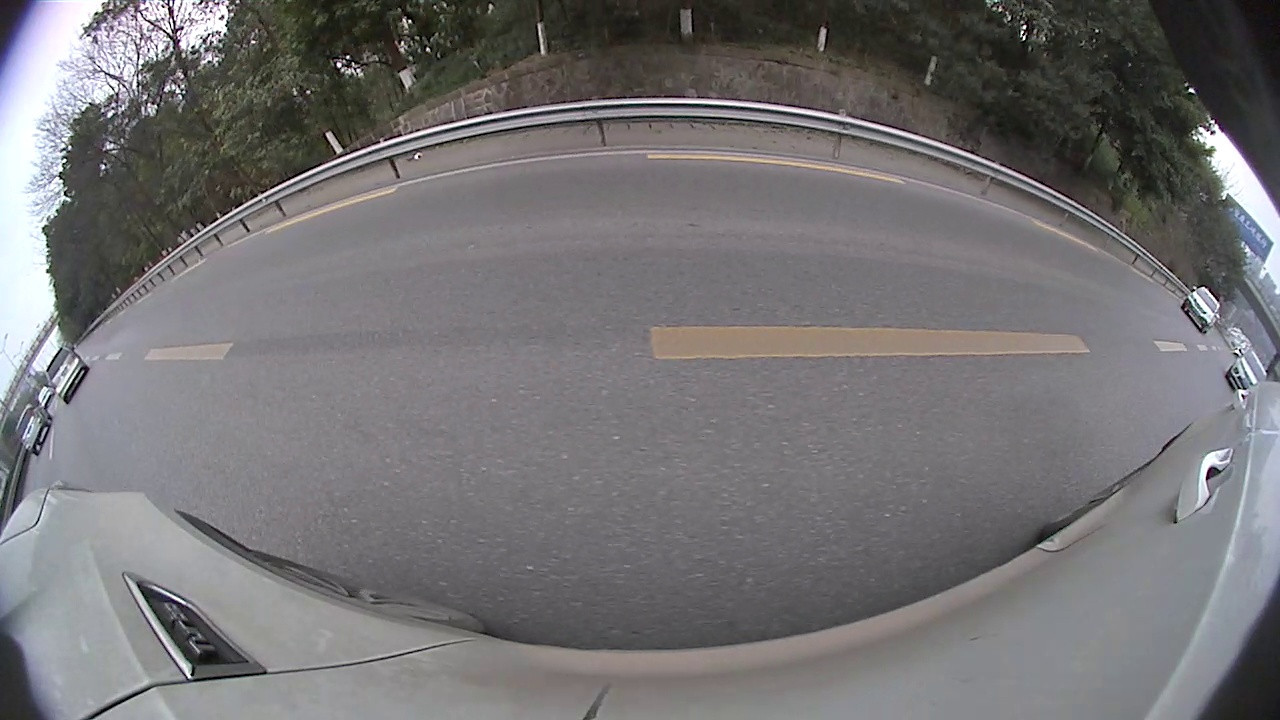car: (45, 345, 91, 406), (1224, 349, 1269, 399), (14, 403, 54, 457), (1181, 284, 1222, 334)
